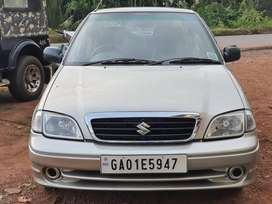GA01E5947: (100, 155, 187, 172)
